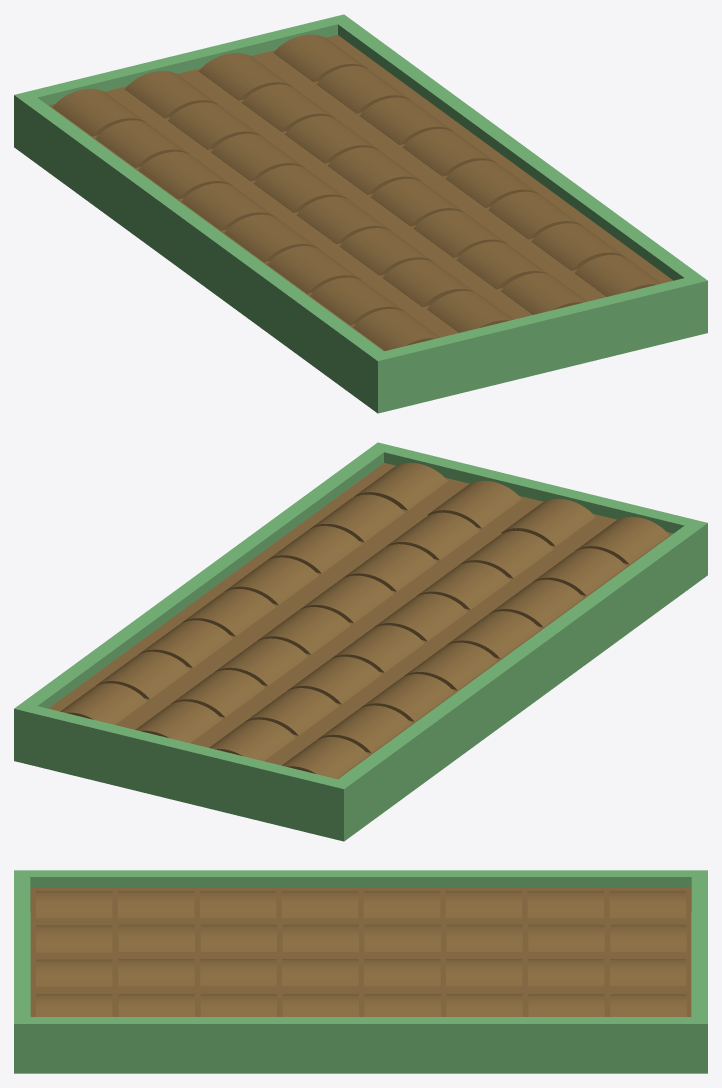
Rendered from asset.glb.
3 views of the same model, one above another, from view 1: azimuth 30°, elevation 25°; view 2: azimuth 150°, elevation 25°; view 3: azimuth 270°, elevation 25° (orthographic). The views are drawn at different scales.
Parts seen in each view (by area): view 1: Mesh_Mesh_head_geo.001_lambert2SG.001; view 2: Mesh_Mesh_head_geo.001_lambert2SG.001; view 3: Mesh_Mesh_head_geo.001_lambert2SG.001.
Boxes of the visible parts, <box> form: Mesh_Mesh_head_geo.001_lambert2SG.001: <box>14,14,707,413</box>; Mesh_Mesh_head_geo.001_lambert2SG.001: <box>14,442,707,841</box>; Mesh_Mesh_head_geo.001_lambert2SG.001: <box>14,870,707,1073</box>.
Size of the model in its own units: 66 by 10 by 126.
